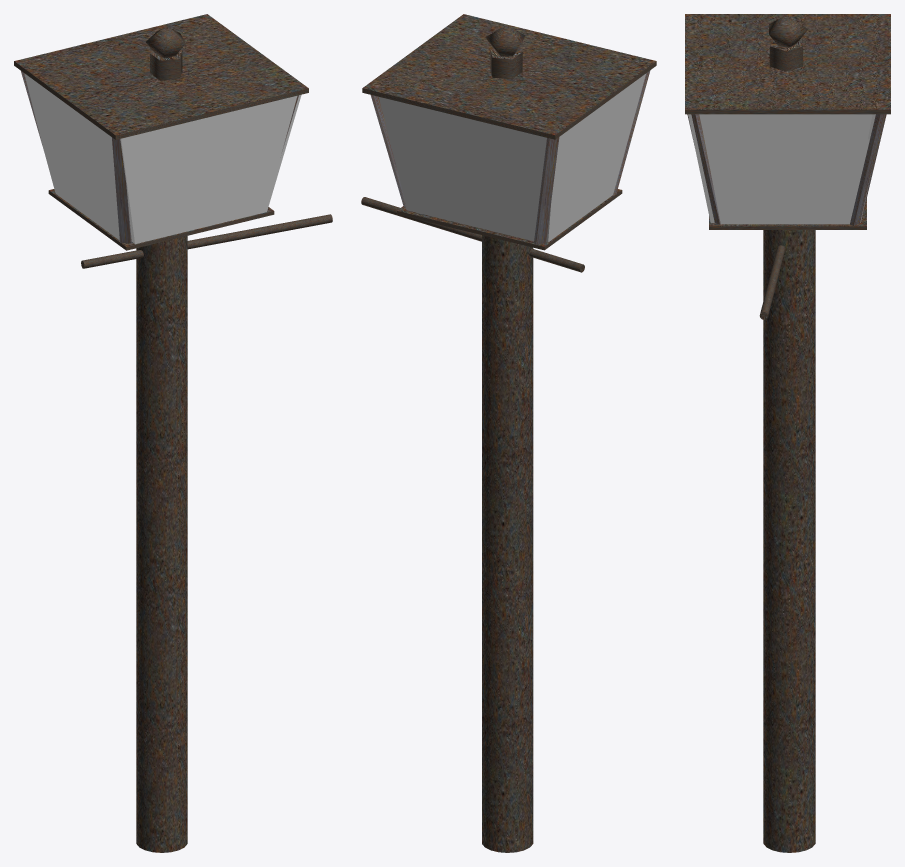
File: Lamp.FBX
3 views of the same model, side by side, from view 1: azimuth 30°, elevation 25°; view 2: azimuth 150°, elevation 25°; view 3: azimuth 270°, elevation 25° (orthographic).
Visible parts, largest first — view 1: Cylinder01, Box02, Box09, Box10, Cylinder03, Box01, Box04, Sphere01, Cylinder02; view 2: Cylinder01, Box02, Box07, Box10, Box01, Box05, Cylinder03, Cylinder02, Sphere01, Box06; view 3: Cylinder01, Box02, Box08, Box06, Box01, Box03, Sphere01, Cylinder02, Cylinder03, Box09.
Part boxes in pixels (x1=…): Cylinder01: x1=136, y1=236, x2=187, y2=852; Box02: x1=14, y1=14, x2=308, y2=139; Box09: x1=120, y1=94, x2=301, y2=244; Box10: x1=24, y1=73, x2=119, y2=240; Cylinder03: x1=81, y1=214, x2=332, y2=268; Box01: x1=48, y1=189, x2=274, y2=250; Box04: x1=112, y1=137, x2=131, y2=243; Sphere01: x1=146, y1=26, x2=185, y2=58; Cylinder02: x1=150, y1=50, x2=182, y2=80; Cylinder01: x1=482, y1=235, x2=533, y2=852; Box02: x1=362, y1=14, x2=656, y2=139; Box07: x1=379, y1=97, x2=546, y2=241; Box10: x1=546, y1=74, x2=645, y2=242; Box01: x1=397, y1=189, x2=622, y2=250; Box05: x1=534, y1=137, x2=559, y2=244; Cylinder03: x1=361, y1=197, x2=584, y2=272; Cylinder02: x1=490, y1=48, x2=522, y2=79; Sphere01: x1=485, y1=25, x2=525, y2=56; Box06: x1=370, y1=95, x2=407, y2=209; Cylinder01: x1=763, y1=230, x2=815, y2=852; Box02: x1=685, y1=14, x2=890, y2=114; Box08: x1=699, y1=114, x2=872, y2=224; Box06: x1=850, y1=114, x2=886, y2=225; Box01: x1=709, y1=198, x2=866, y2=229; Box03: x1=687, y1=114, x2=720, y2=224; Sphere01: x1=769, y1=15, x2=807, y2=47; Cylinder02: x1=769, y1=41, x2=802, y2=71; Cylinder03: x1=759, y1=245, x2=785, y2=319; Box09: x1=688, y1=114, x2=714, y2=222.
Size of the model in its own units: 53.68 by 164 by 37.04.
Materials: 10 (10 with a texture image).
